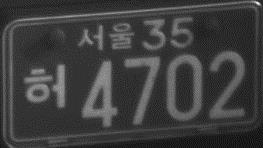0: (165, 52, 204, 124)
2: (206, 49, 247, 119)
3: (142, 18, 167, 53)
4: (80, 58, 118, 130)
5: (170, 16, 194, 49)
7: (123, 55, 162, 127)
서울_O: (76, 21, 136, 52)
허: (24, 62, 68, 109)
